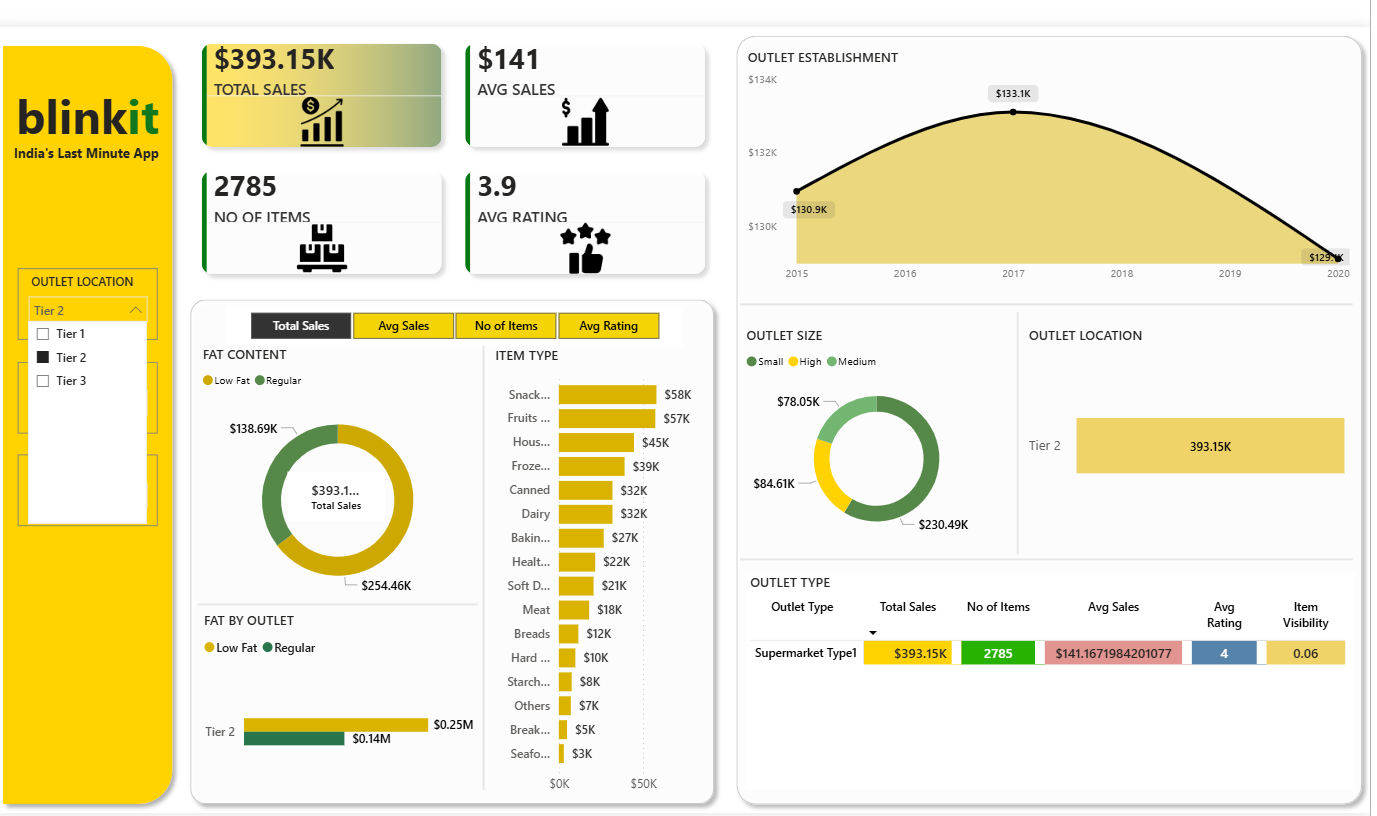

Layout of this report page (visuals, bound fields, positions):
{"tool":"powerbi","page":{"name":"Page 1","canvas":[1400,800],"ordinal":0},"visuals":[{"type":"shape","box":[0,10.5,190.6,789.5],"z":0},{"type":"textbox","box":[8.9,52.1,173,81.4],"z":1000},{"type":"textbox","box":[15.3,114.5,160.2,30.5],"z":2000},{"type":"cardVisual","fields":{"Data":["BlinkIT Grocery Data.Total Sales","BlinkIT Grocery Data.Avg Sales","BlinkIT Grocery Data.No of Items","BlinkIT Grocery Data.Avg Rating"]},"box":[194.6,0,546.9,268.3],"z":3000},{"type":"shape","box":[190.6,268.7,550.8,531.3],"z":4000},{"type":"donutChart","title":"FAT CONTENT","fields":{"Y":["BlinkIT Grocery Data.Total Sales"],"Category":["BlinkIT Grocery Data.Item Fat Content"]},"box":[207.1,322.7,285.2,271.7],"z":5000},{"type":"slicer","fields":{"Values":["Metrics.Metrics"]},"box":[235.6,283.7,465.3,40.5],"z":6000},{"type":"cardVisual","fields":{"Data":["BlinkIT Grocery Data.Total Sales"]},"box":[294.2,447.3,109.6,60],"z":7000},{"type":"clusteredBarChart","title":"FAT BY OUTLET","fields":{"Y":["BlinkIT Grocery Data.Total Sales"],"Category":["BlinkIT Grocery Data.Outlet Location Type"],"Series":["BlinkIT Grocery Data.Item Fat Content"]},"box":[208.4,594.1,284.4,194.6],"z":8000},{"type":"shape","box":[207.1,579.3,285.2,15],"z":9000},{"type":"shape","box":[492.3,324.2,12,451.8],"z":10000},{"type":"barChart","title":"ITEM TYPE","fields":{"Y":["BlinkIT Grocery Data.Total Sales"],"Category":["BlinkIT Grocery Data.Item Type"]},"box":[504.3,324.2,226.6,463.8],"z":11000},{"type":"shape","box":[745.9,0,654.4,800],"z":12000},{"type":"lineChart","title":" OUTLET ESTABLISHMENT","fields":{"Category":["BlinkIT Grocery Data.Outlet Establishment Year"],"Y":["BlinkIT Grocery Data.Total Sales"]},"box":[762.2,21.9,622.9,246.4],"z":13000},{"type":"shape","box":[758.8,275.2,622.9,15],"z":14000},{"type":"donutChart","title":"OUTLET SIZE","fields":{"Y":["BlinkIT Grocery Data.Total Sales"],"Category":["BlinkIT Grocery Data.Outlet Size"]},"box":[761.1,304,275.2,225.7],"z":15000},{"type":"shape","box":[1035.1,290.2,12.7,246.4],"z":16000},{"type":"funnel","title":"OUTLET LOCATION","fields":{"Category":["BlinkIT Grocery Data.Outlet Location Type"],"Y":["Sum(BlinkIT Grocery Data.Sales)"]},"box":[1047.8,304,336.2,225.7],"z":17000},{"type":"shape","box":[758.8,534.3,622.9,15],"z":18000},{"type":"pivotTable","title":"OUTLET TYPE","fields":{"Rows":["BlinkIT Grocery Data.Outlet Type"],"Values":["BlinkIT Grocery Data.Total Sales","BlinkIT Grocery Data.No of Items","BlinkIT Grocery Data.Avg Sales","BlinkIT Grocery Data.Avg Rating","Avg(BlinkIT Grocery Data.Item Visibility)"]},"box":[764.5,556.1,620.6,219.9],"z":19000},{"type":"slicer","fields":{"Values":["BlinkIT Grocery Data.Outlet Location Type"]},"box":[24.2,245.5,142.4,72.5],"z":20000},{"type":"slicer","fields":{"Values":["BlinkIT Grocery Data.Outlet Size"]},"box":[24.2,340.8,142.4,72.5],"z":21000},{"type":"slicer","fields":{"Values":["BlinkIT Grocery Data.Item Type"]},"box":[24.2,435,142.4,72.5],"z":22000}]}

Visuals, with their boxes on the page's 1400x800 design canvas (x1, y1, x2, y2). These are canvas units, not pixel positions in the 1377x816 screenshot, which may show the page scaled, cropped or inside an application window:
shape: [left=0, top=10, right=191, bottom=800]
textbox: [left=9, top=52, right=182, bottom=134]
textbox: [left=15, top=114, right=176, bottom=145]
cardVisual - BlinkIT Grocery Data.Total Sales x BlinkIT Grocery Data.Avg Sales: [left=195, top=0, right=742, bottom=268]
shape: [left=191, top=269, right=741, bottom=800]
"FAT CONTENT" donutChart: [left=207, top=323, right=492, bottom=594]
slicer - Metrics.Metrics: [left=236, top=284, right=701, bottom=324]
cardVisual - BlinkIT Grocery Data.Total Sales: [left=294, top=447, right=404, bottom=507]
"FAT BY OUTLET" clusteredBarChart: [left=208, top=594, right=493, bottom=789]
shape: [left=207, top=579, right=492, bottom=594]
shape: [left=492, top=324, right=504, bottom=776]
"ITEM TYPE" barChart: [left=504, top=324, right=731, bottom=788]
shape: [left=746, top=0, right=1400, bottom=800]
" OUTLET ESTABLISHMENT" lineChart: [left=762, top=22, right=1385, bottom=268]
shape: [left=759, top=275, right=1382, bottom=290]
"OUTLET SIZE" donutChart: [left=761, top=304, right=1036, bottom=530]
shape: [left=1035, top=290, right=1048, bottom=537]
"OUTLET LOCATION" funnel: [left=1048, top=304, right=1384, bottom=530]
shape: [left=759, top=534, right=1382, bottom=549]
"OUTLET TYPE" pivotTable: [left=764, top=556, right=1385, bottom=776]
slicer - BlinkIT Grocery Data.Outlet Location Type: [left=24, top=246, right=167, bottom=318]
slicer - BlinkIT Grocery Data.Outlet Size: [left=24, top=341, right=167, bottom=413]
slicer - BlinkIT Grocery Data.Item Type: [left=24, top=435, right=167, bottom=508]
